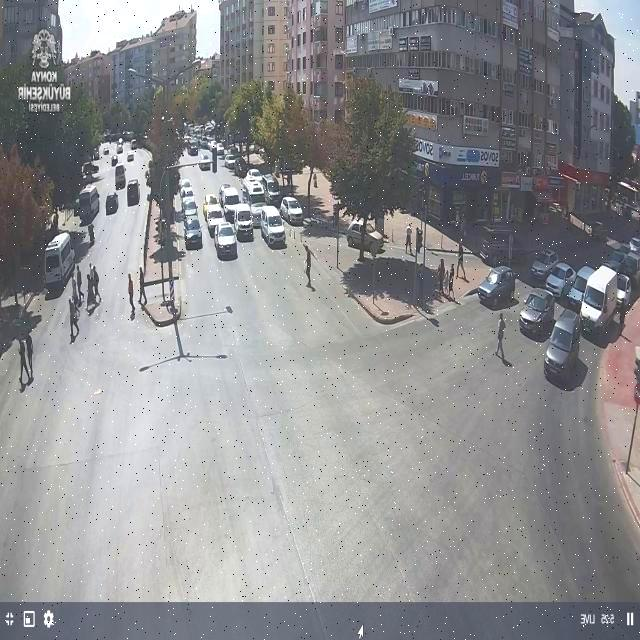Car: (544, 308, 584, 381), (520, 288, 556, 336), (346, 217, 384, 255), (478, 266, 514, 306), (564, 265, 596, 310), (258, 206, 286, 248), (545, 262, 577, 298), (530, 248, 560, 280), (213, 222, 237, 259), (231, 204, 254, 238), (614, 272, 634, 309), (280, 196, 304, 226), (204, 205, 227, 236), (259, 174, 282, 204), (219, 185, 240, 217), (182, 216, 202, 248), (604, 251, 630, 274), (618, 253, 640, 280), (248, 202, 268, 226), (181, 195, 199, 221), (587, 221, 607, 241), (126, 180, 140, 204), (105, 192, 118, 214), (82, 162, 98, 178), (115, 165, 126, 188), (179, 178, 193, 196), (224, 155, 238, 171), (198, 153, 211, 170), (627, 237, 640, 254), (246, 169, 262, 182), (188, 141, 198, 155), (116, 142, 124, 154), (216, 144, 224, 156), (131, 139, 138, 149), (111, 155, 118, 165), (127, 152, 134, 161)
Van: (579, 266, 620, 338), (478, 224, 533, 265), (44, 232, 75, 290), (77, 186, 100, 222), (242, 176, 266, 206)
